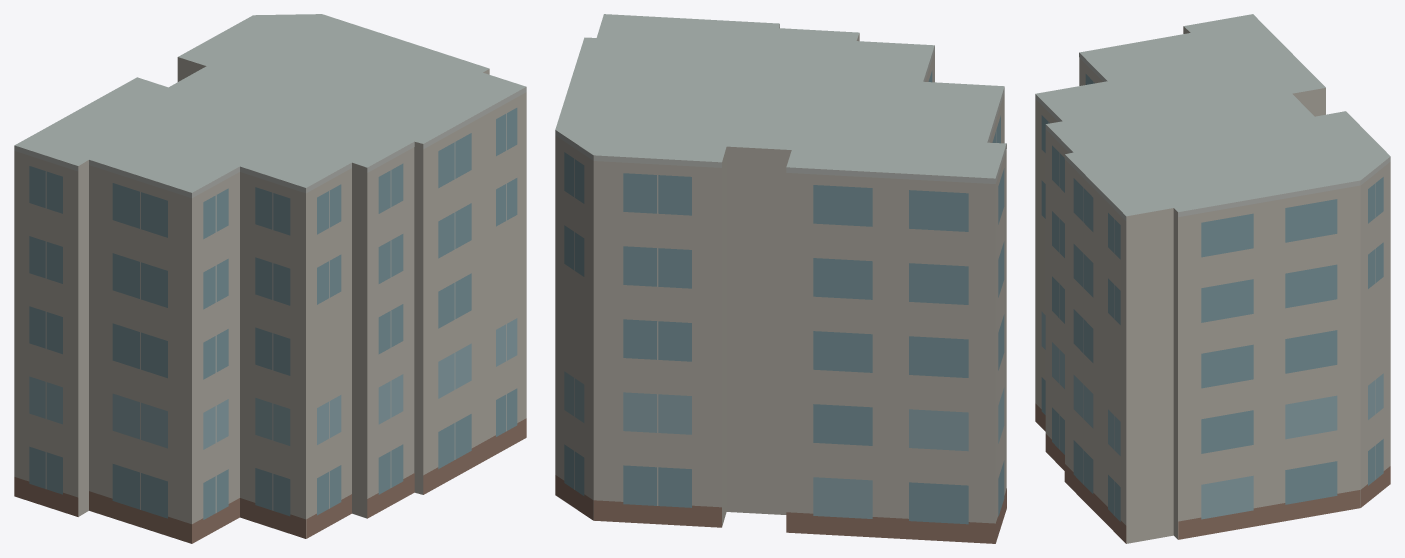
The model's file is survey-upis-32755942.glb.
The picture shows the model from 3 angles, left to right: view 1: azimuth 30°, elevation 25°; view 2: azimuth 150°, elevation 25°; view 3: azimuth 270°, elevation 25°; orthographic projection. The views are drawn at different scales.
Visible parts, largest first — view 1: survey-upis-32755942.tmp; view 2: survey-upis-32755942.tmp; view 3: survey-upis-32755942.tmp.
Boxes of the visible parts, <box> form: survey-upis-32755942.tmp: <box>14,14,526,543</box>; survey-upis-32755942.tmp: <box>555,14,1006,543</box>; survey-upis-32755942.tmp: <box>1035,14,1390,543</box>.
Bounding box in the file's own units: 21.13 × 15.95 × 15.69.
